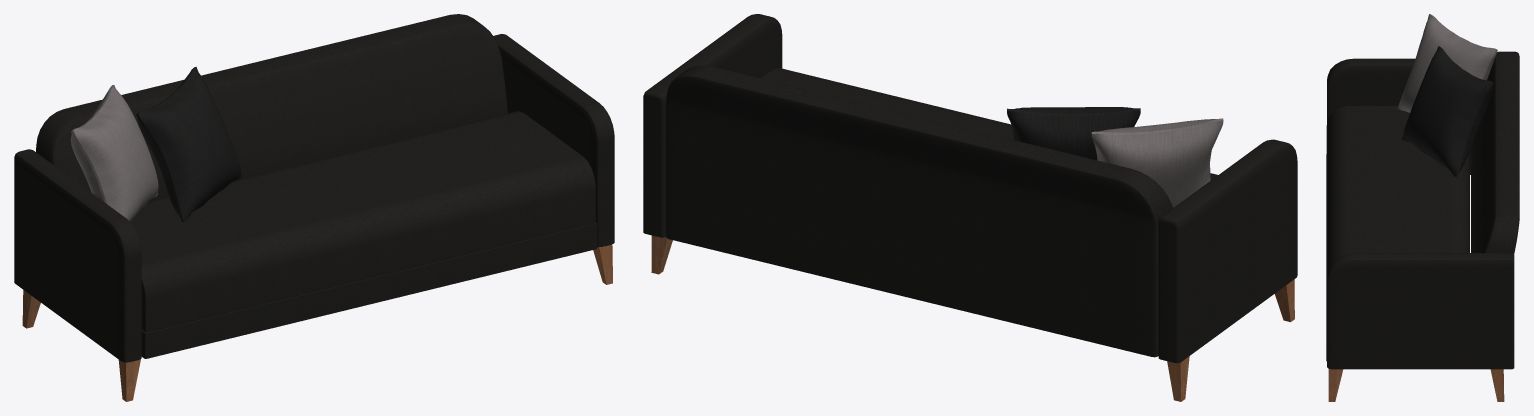
3 views of the same model, side by side, from view 1: azimuth 30°, elevation 25°; view 2: azimuth 150°, elevation 25°; view 3: azimuth 270°, elevation 25° (orthographic). The views are drawn at different scales.
Visible parts, largest first — view 1: polySurface9; view 2: polySurface9; view 3: polySurface9.
Boxes of the visible parts, x1,y1,x2,y2 form: polySurface9: (14, 14, 614, 401); polySurface9: (643, 14, 1297, 401); polySurface9: (1326, 14, 1519, 401).
Bounding box in the file's own units: 1.98 × 0.8669 × 0.7971.
4 materials, 4 textured.
